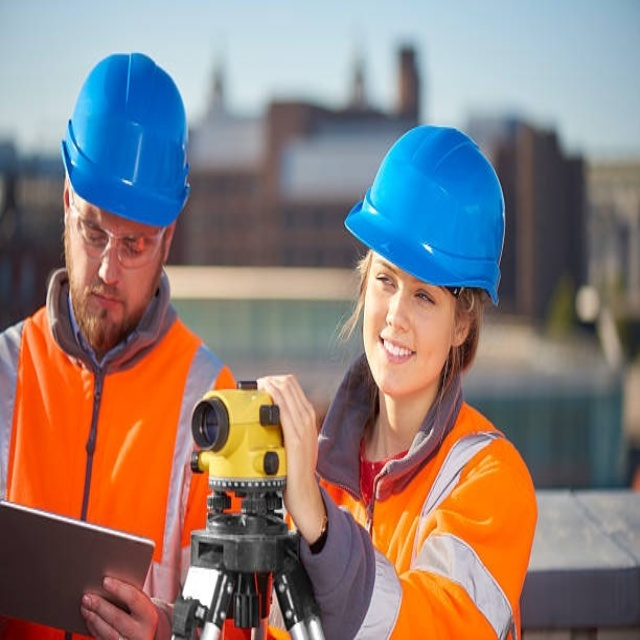Gafas: (68, 185, 169, 267)
Sin_gafas: (375, 264, 447, 322)
Sin_guantes: (258, 365, 325, 522), (80, 576, 165, 640)
Sin_mascara: (373, 328, 427, 384), (86, 282, 129, 331)
